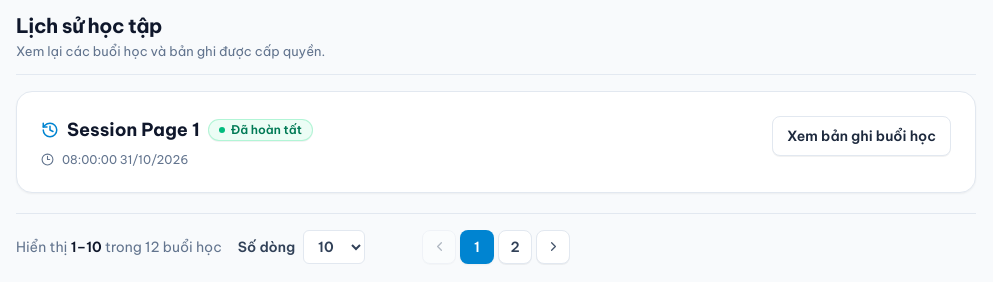
Test case: LearningHistoryPage request lifecycle › chuyển trang lịch sử buổi học bằng API phân trang
Check: the heading "Session Page 1" is shown, box 67,116 -> 200,144
Click the button named "Trang sau".
click(553, 246)  # box 536,230 -> 570,264
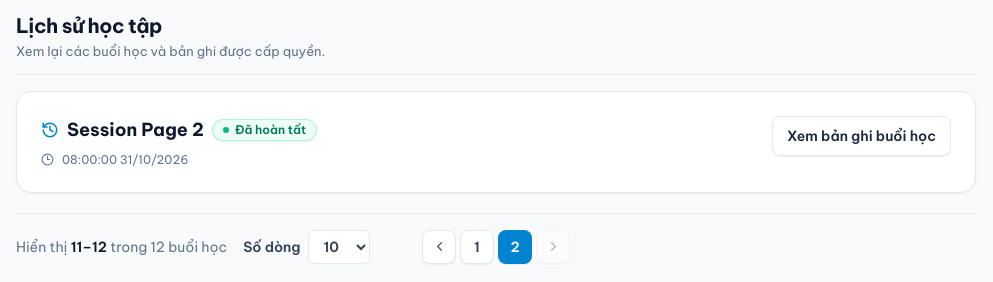
Check: the heading "Session Page 2" is shown, box 67,116 -> 204,144
